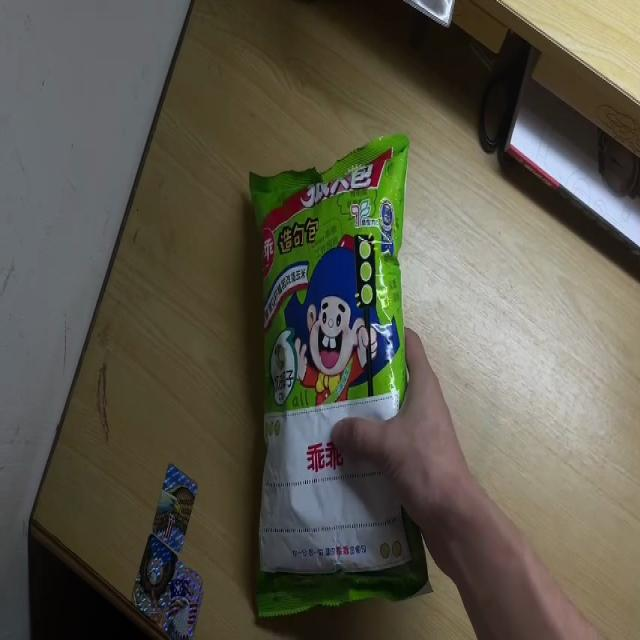Good-Luck: (247, 129, 432, 621)
